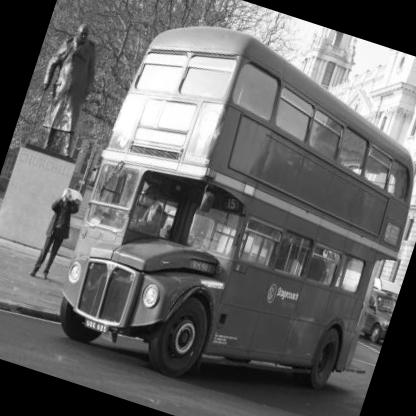bus: (17, 1, 416, 416)
